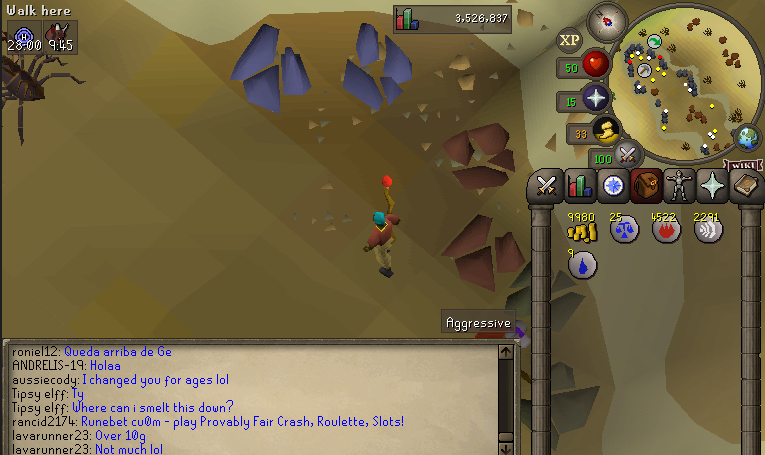iron: (442, 209, 526, 296), (440, 117, 523, 194)
